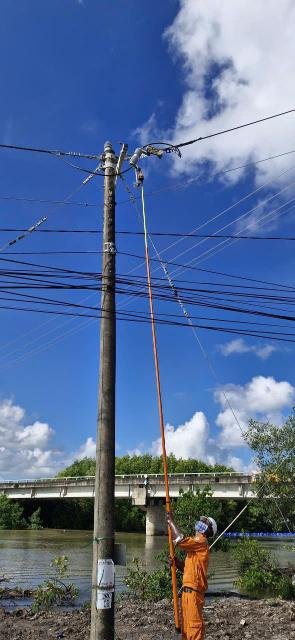gloves: (158, 508, 185, 544), (166, 552, 190, 574)
helmet: (202, 513, 222, 539)
